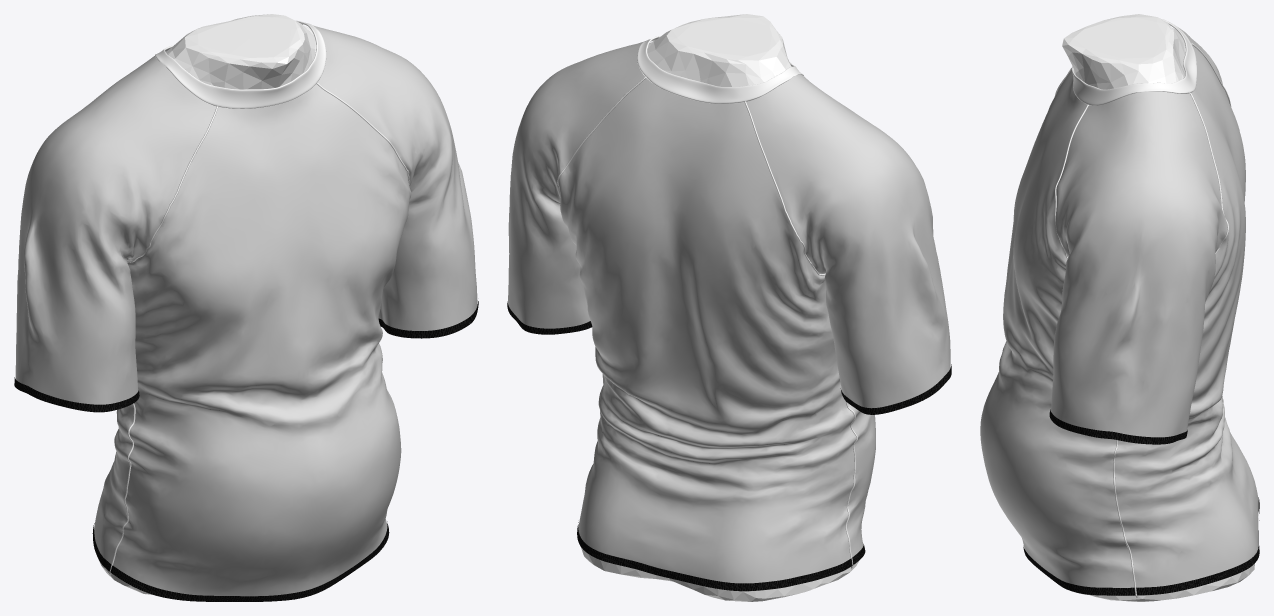
3 views of the same model, side by side, from view 1: azimuth 30°, elevation 25°; view 2: azimuth 150°, elevation 25°; view 3: azimuth 270°, elevation 25° (orthographic). The views are drawn at different scales.
Visible parts, largest first — view 1: cloth, bust, stitches, collar, seams; view 2: cloth, bust, stitches, collar, seams; view 3: cloth, bust, stitches, collar, seams.
Boxes of the visible parts, x1,y1,x2,y2 form: cloth: [15, 24, 477, 596]; bust: [98, 14, 316, 594]; stitches: [14, 301, 478, 601]; collar: [155, 20, 326, 108]; seams: [109, 82, 409, 574]; cloth: [508, 41, 950, 591]; bust: [581, 14, 858, 601]; stitches: [507, 301, 951, 591]; collar: [637, 36, 803, 103]; seams: [557, 76, 857, 568]; cloth: [980, 27, 1258, 595]; bust: [1062, 14, 1254, 601]; stitches: [1023, 409, 1259, 595]; collar: [1072, 19, 1196, 105]; seams: [1054, 43, 1231, 597].
Bounding box in the file's own units: 0.5689 × 0.6425 × 0.3197.
5 materials, 1 textured.
